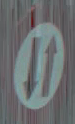Two way: (13, 12, 63, 102)
